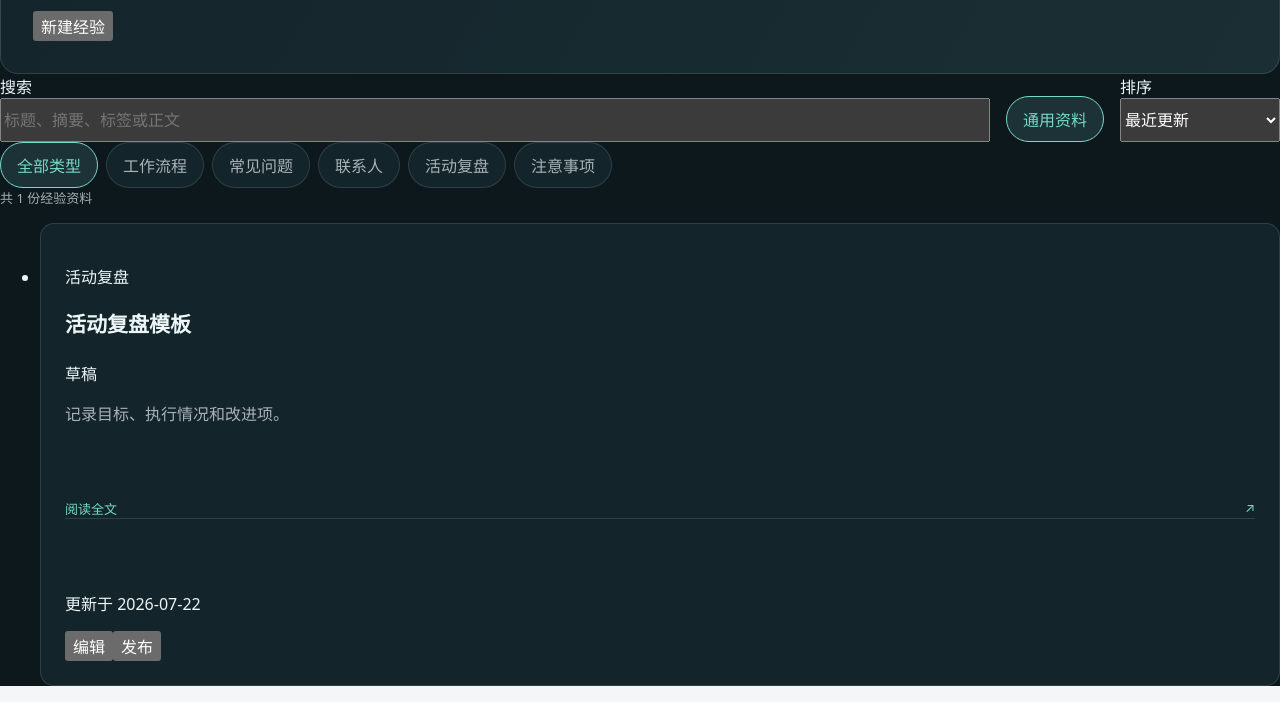
Test: KnowledgePage › edits content and confirms publish, withdraw, and archive without optimistic corruption
(page scrolled)
Check: the link "活动复盘模板" is shown, box [65,313,191,336]
Check: the text "草稿" is shown, box [65,363,97,385]
Step 1. Click the button "编辑" → (89, 646), box [65,631,113,661]
(page scrolled)
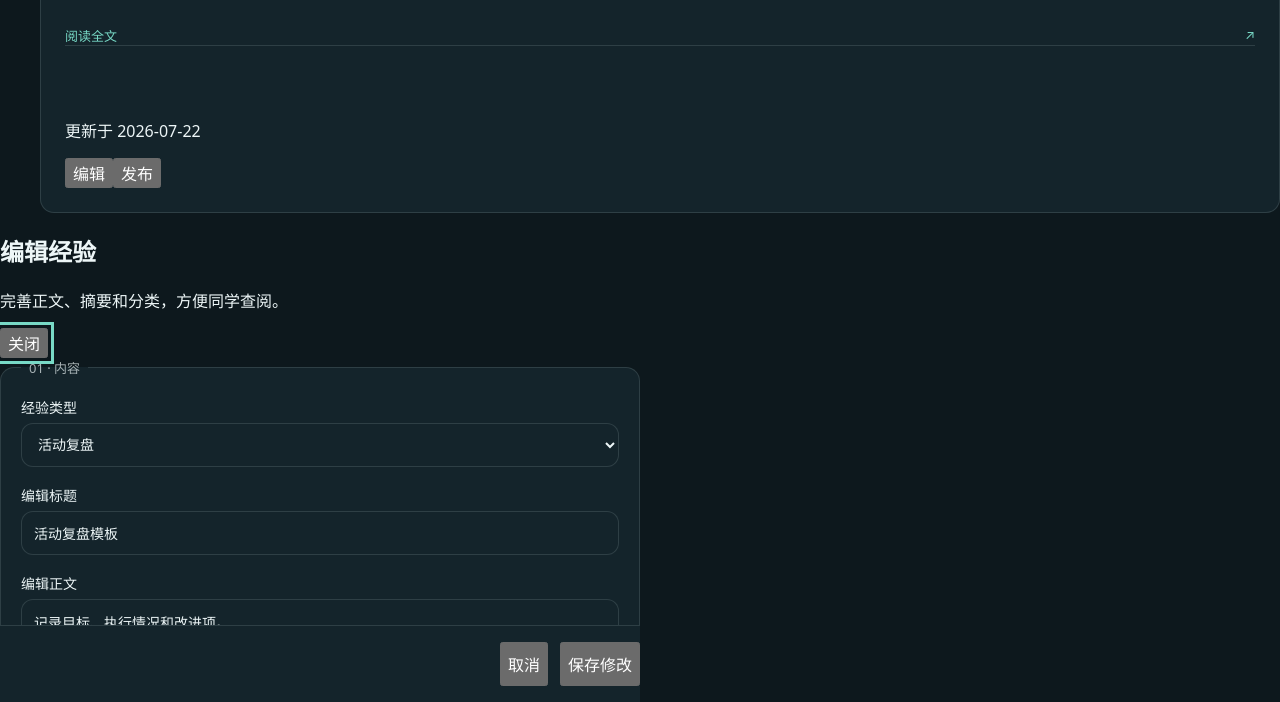
Step 2. Replace the text in the field labelled "编辑标题" with "活动复盘与改进" → (320, 533), box [21,511,619,555]
Step 3. Click the button "保存修改" → (600, 664), box [560,642,640,686]
(page scrolled)
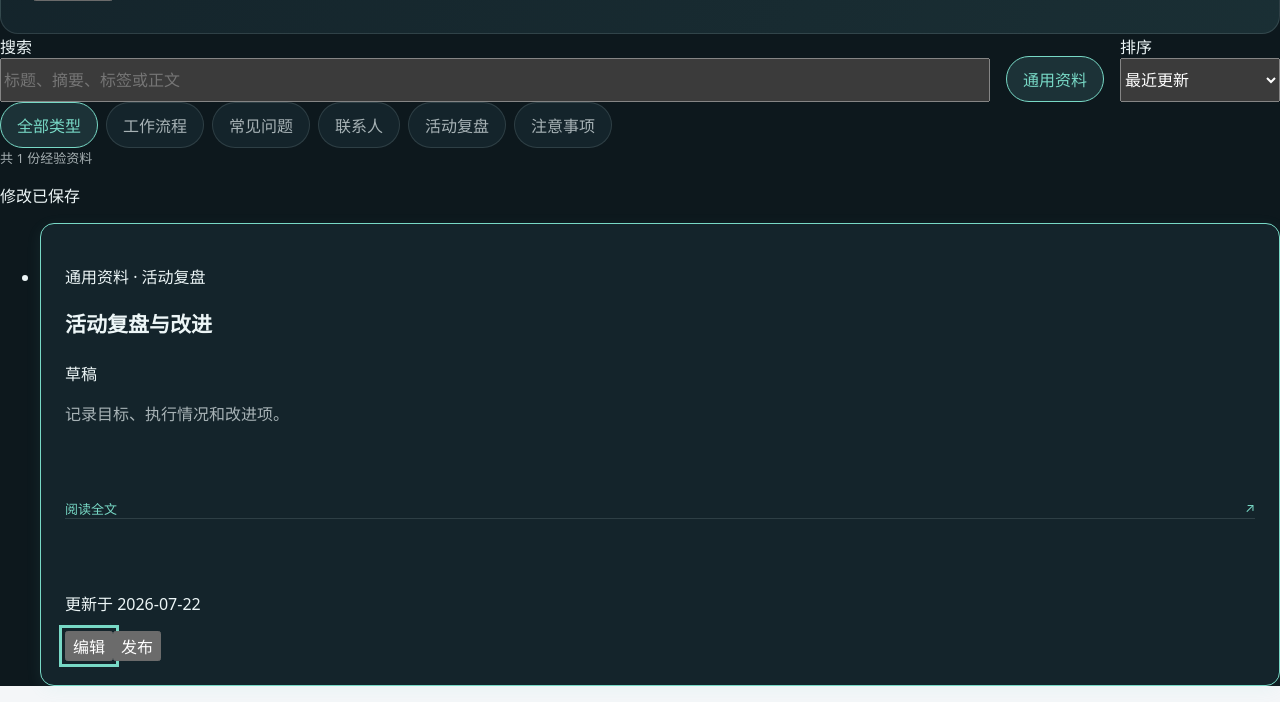
Check: the link "活动复盘与改进" is shown, box [65,313,212,336]
Step 4. Click the button with aria-label "发布 活动复盘与改进" → (137, 646), box [113,631,161,661]
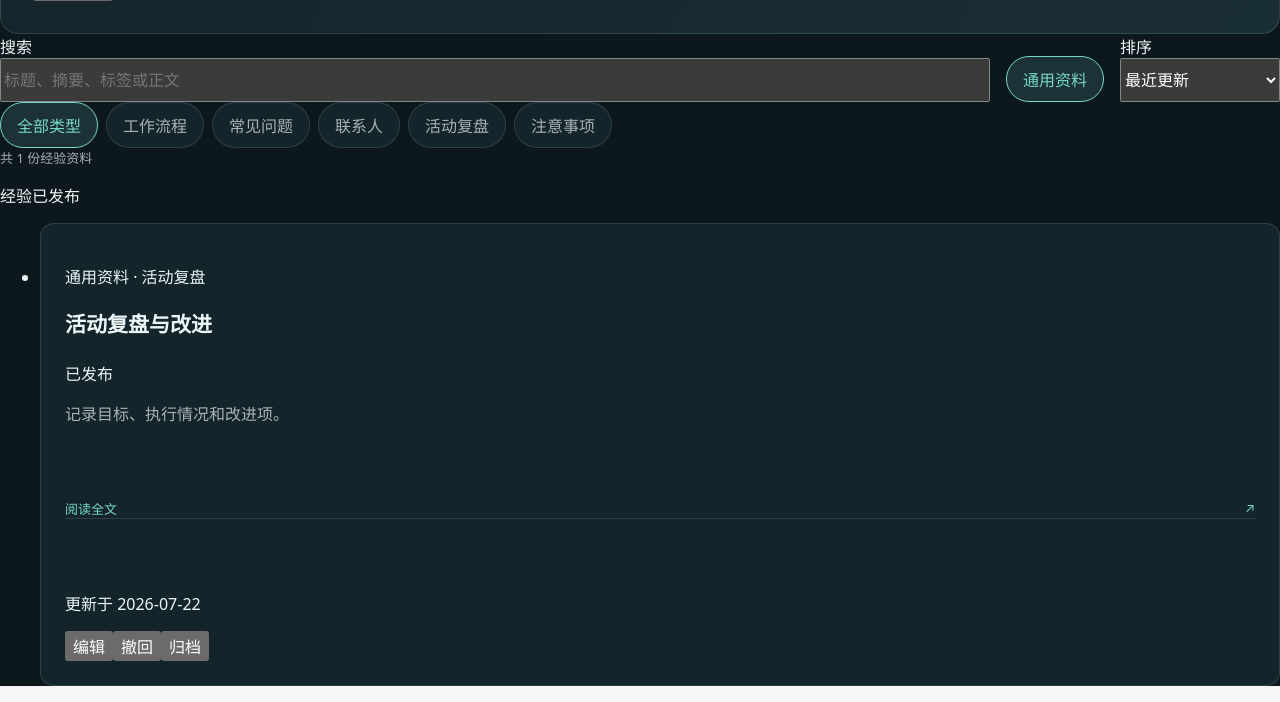
Check: the text "已发布" is shown, box [65,363,113,385]
Step 5. Click the button with aria-label "撤回 活动复盘与改进" → (137, 646), box [113,631,161,661]
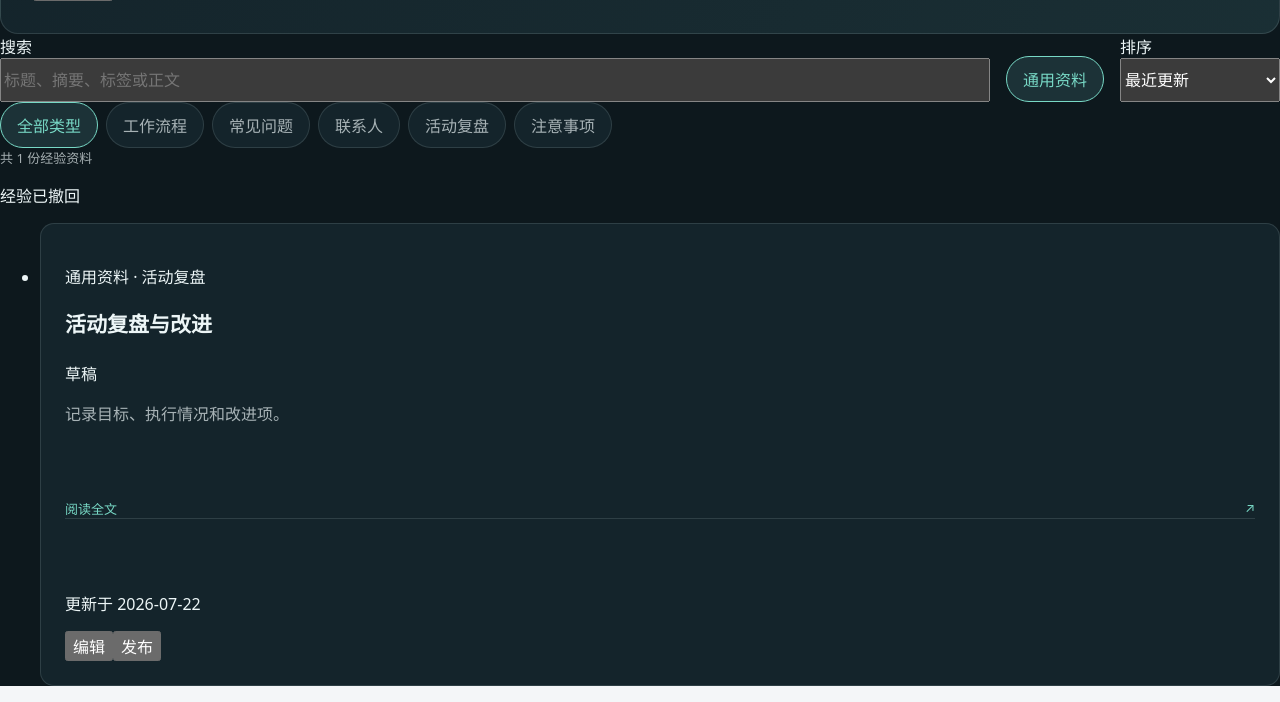
Check: the text "草稿" is shown, box [65,363,97,385]
Step 6. Click the button with aria-label "发布 活动复盘与改进" → (137, 646), box [113,631,161,661]
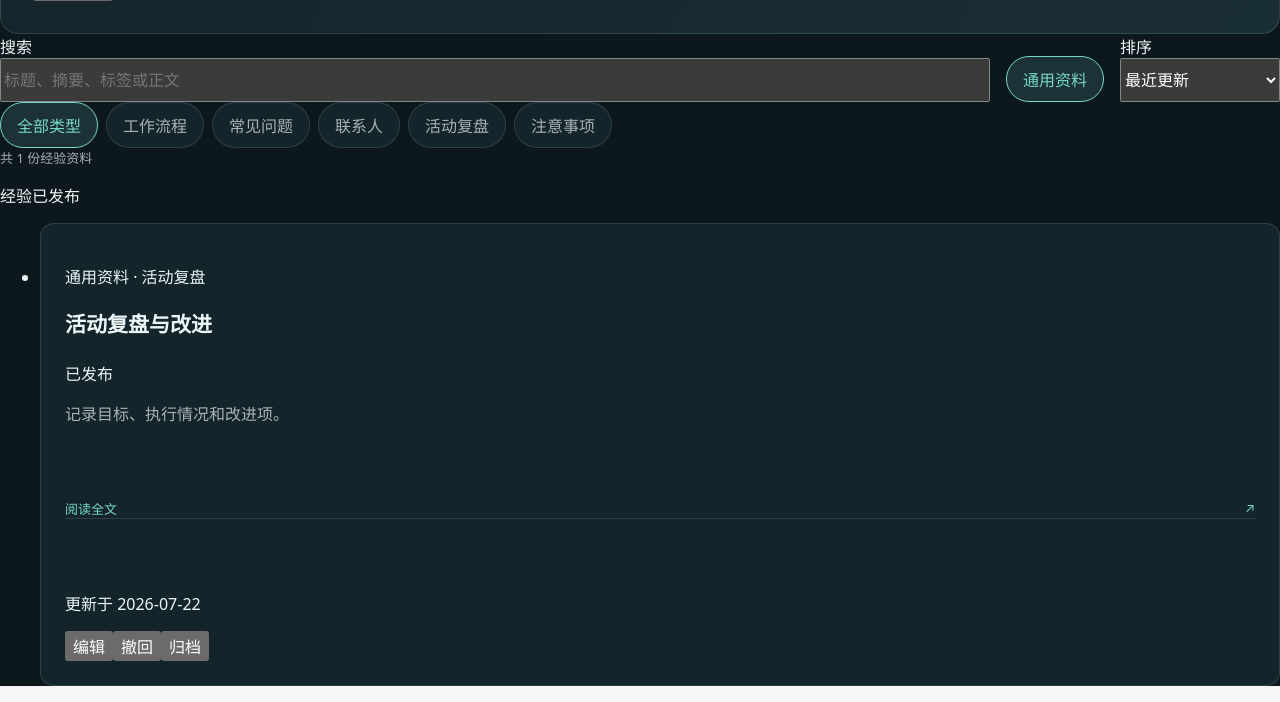
Check: the text "已发布" is shown, box [65,363,113,385]
Step 7. Click the button with aria-label "归档 活动复盘与改进" → (185, 646), box [161,631,209,661]
(page scrolled)
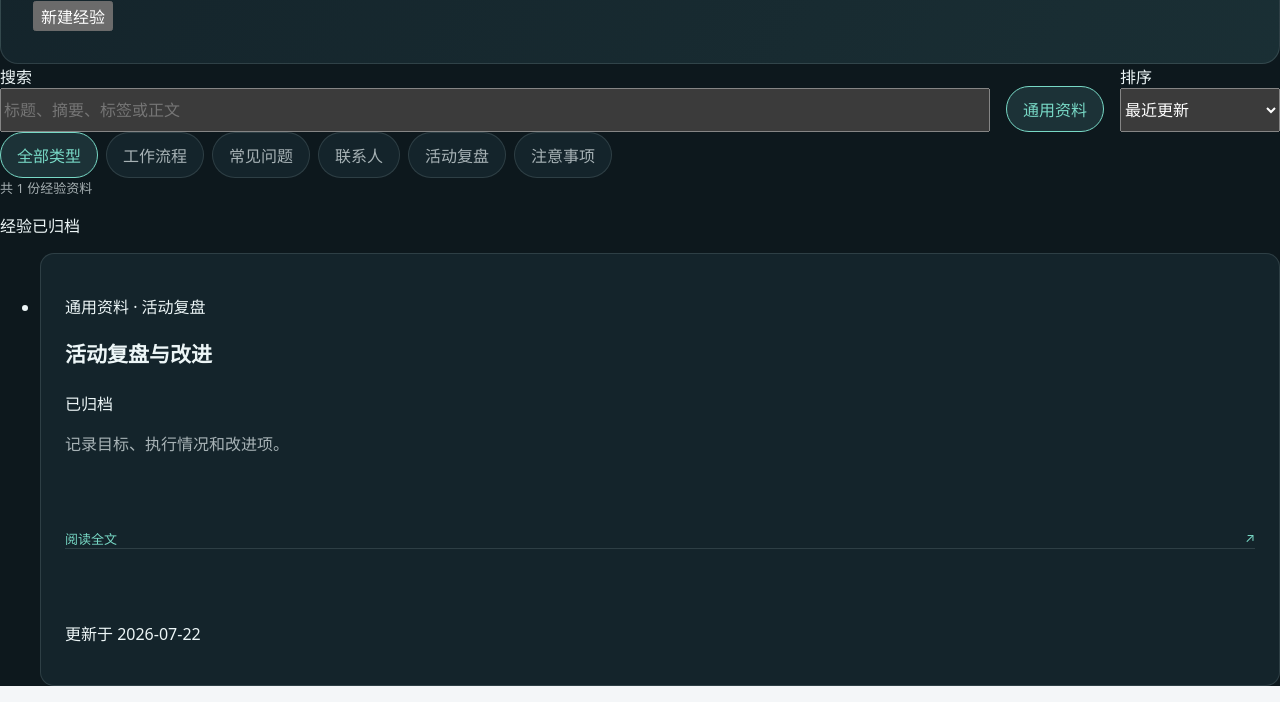
Check: the text "已归档" is shown, box [65,393,113,415]
